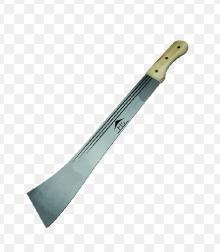MACHETTE: (23, 31, 196, 234)
